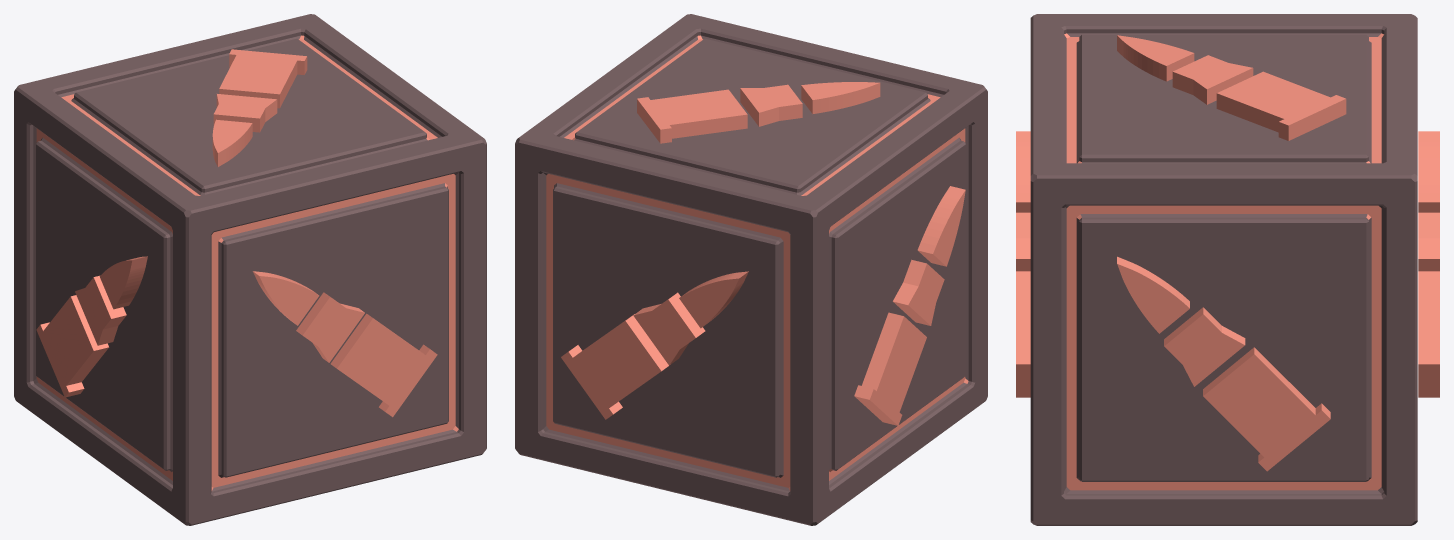
The model's file is PiercingAmmo.fbx.
3 views of the same model, side by side, from view 1: azimuth 30°, elevation 25°; view 2: azimuth 150°, elevation 25°; view 3: azimuth 270°, elevation 25° (orthographic). The views are drawn at different scales.
Visible parts, largest first — view 1: Cube.238; view 2: Cube.238; view 3: Cube.238.
Part boxes in pixels (x1,y1,x2,y2): Cube.238: (14,14,486,525); Cube.238: (515,14,987,525); Cube.238: (1016,14,1439,525).
Bounding box in the file's own units: 68.46 × 68.46 × 68.46.
